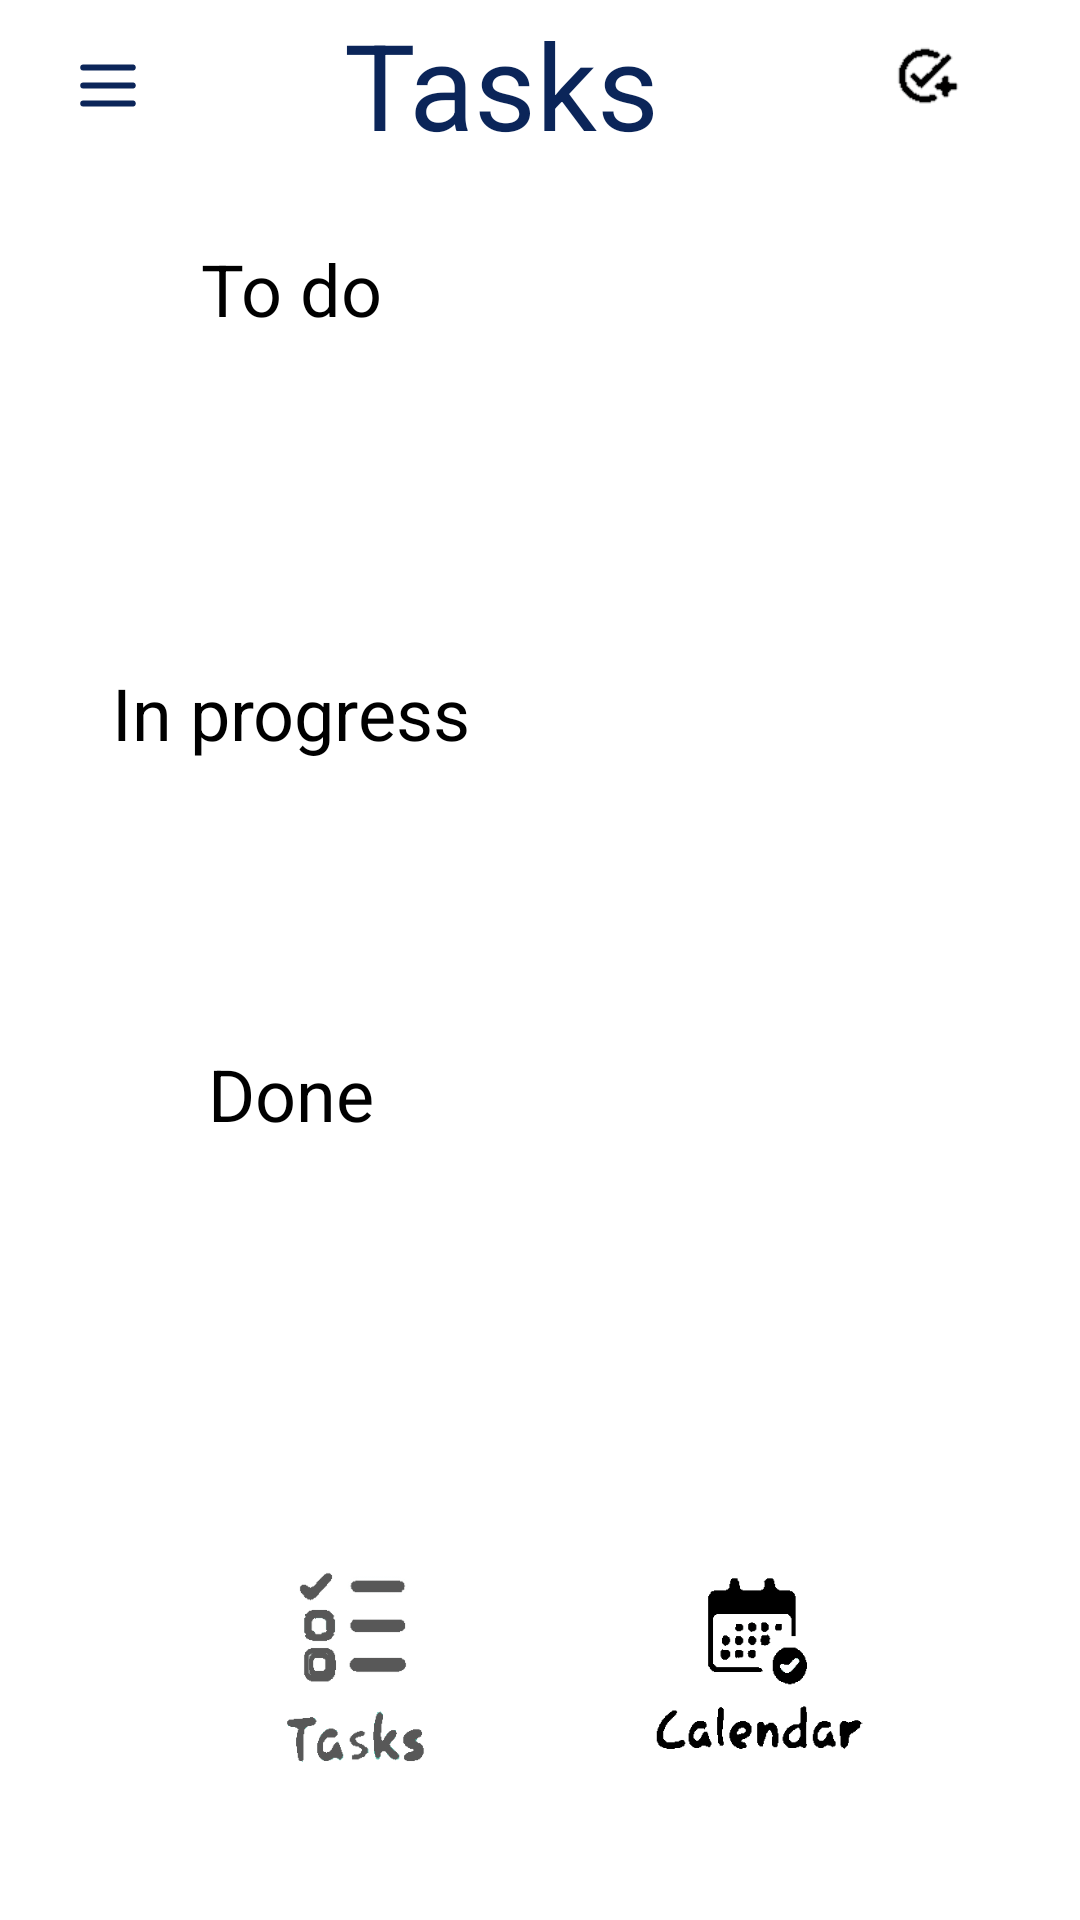

Named icons in this screenshot (1080px x 1920px) and their centers, [x,y]:
add task: [928,76]
burger menu: [108,85]
